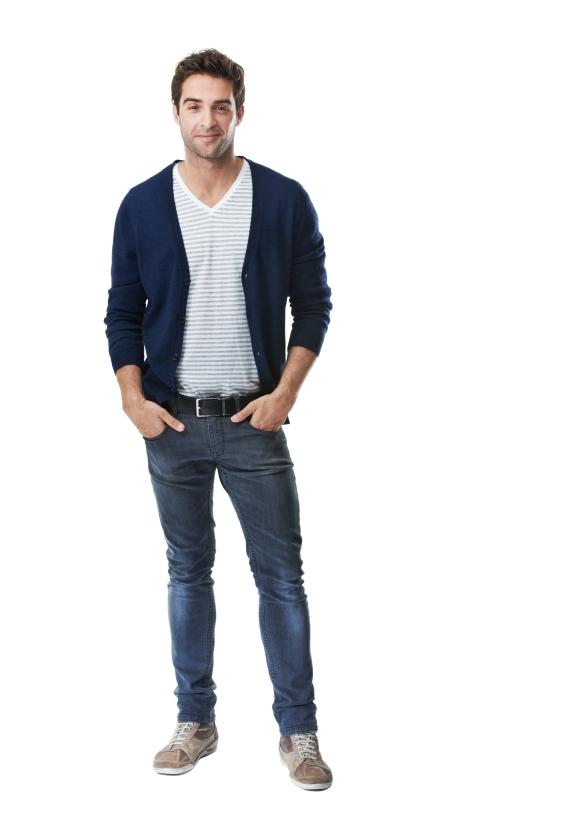Jeans: (132, 400, 324, 733)
